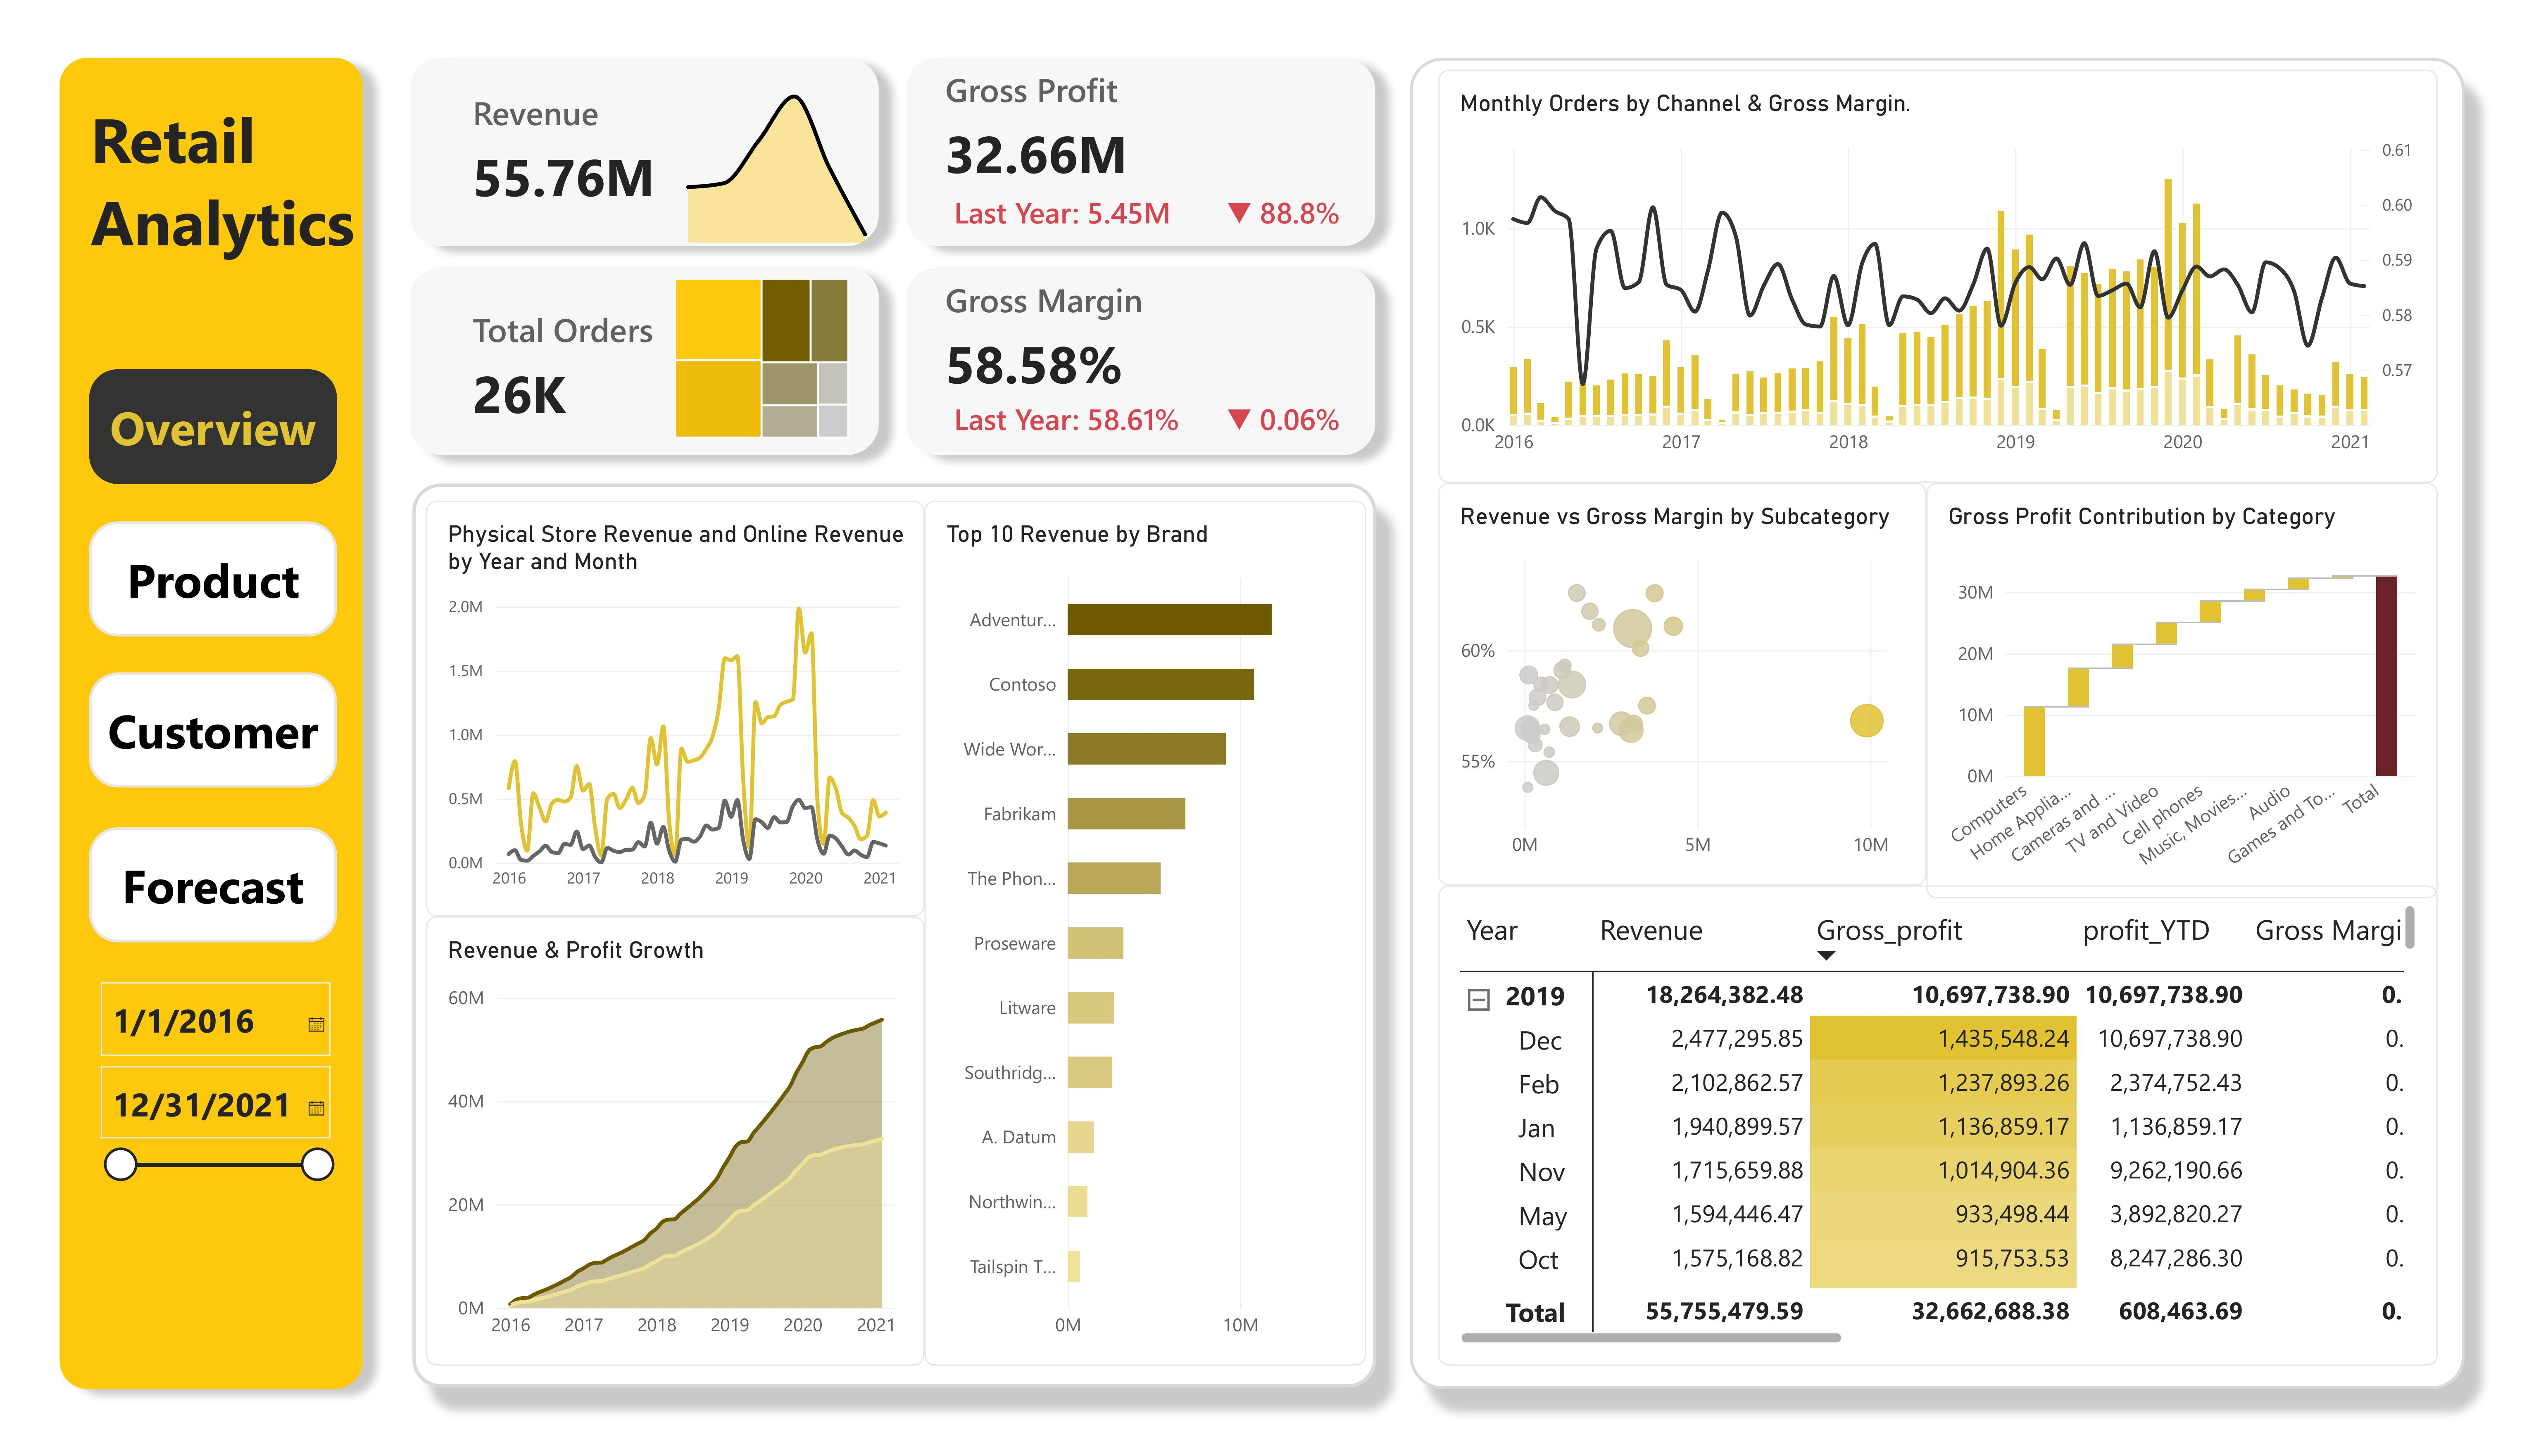

The page's visual inventory and layout, read from the dashboard file:
{"tool":"powerbi","page":{"name":"Business Overview","canvas":[1920,1080],"ordinal":0},"visuals":[{"type":"cardVisual","fields":{"Data":["_Measures.Revenue"]},"box":[326.2,50.6,183.1,83.7],"z":0},{"type":"cardVisual","fields":{"Data":["_Measures.Gross Profit"]},"box":[692.4,0,280.8,150],"z":1000},{"type":"cardVisual","fields":{"Data":["_Measures.Total Orders"]},"box":[326.2,200.6,280.8,120.3],"z":2000},{"type":"cardVisual","fields":{"Data":["_Measures.Gross Margin"]},"box":[692.4,177.9,280.8,120.3],"z":3000},{"type":"lineChart","title":"Revenue & Profit Growth","fields":{"Category":["DimDate.Date.Variation.Date Hierarchy.Year","DimDate.Date.Variation.Date Hierarchy.Month"],"Y":["_Measures.revenue_accumulating","_Measures.profit_accumulating"]},"box":[306,686,386,348],"z":4000},{"type":"waterfallChart","title":"Gross Profit Contribution by Category","fields":{"Category":["dim_product.category"],"Y":["_Measures.Gross Profit"]},"box":[1468,350,396,322],"z":5000},{"type":"clusteredBarChart","title":"Top 10 Revenue by Brand","fields":{"Category":["dim_product.brand"],"Y":["_Measures.Revenue"]},"box":[692,364,342,670],"z":6000},{"type":"lineChart","fields":{"Category":["DimDate.Date.Variation.Date Hierarchy.Year","DimDate.Date.Variation.Date Hierarchy.Month"],"Y":["_Measures.Physical Store Revenue","_Measures.Online Revenue"]},"box":[306,364,386,322],"z":7000},{"type":"lineStackedColumnComboChart","title":"Monthly Orders by Channel & Gross Margin.","fields":{"Category":["DimDate.MonthStart"],"Y":["_Measures.Total order_Online","_Measures.Total order_Physical channel"],"Y2":["_Measures.Gross Margin"]},"box":[1090,30,774,320],"z":8000},{"type":"scatterChart","title":"Revenue vs Gross Margin by Subcategory","fields":{"Category":["dim_product.subcategory"],"Size":["_Measures.Units Sold"],"X":["_Measures.Revenue"],"Y":["_Measures.Gross Margin"]},"box":[1090,350,378,312],"z":9000},{"type":"pivotTable","fields":{"Rows":["DimDate.Year","DimDate.MonthName"],"Values":["Sum(fact_sales.revenue)","Sum(fact_sales.gross_profit)","_Measures.profit_YTD","_Measures.Gross Margin","_Measures.revenue_accumulating","_Measures.profit_accumulating","_Measures.profit_lastmonth","_Measures.profit_MOM","_Measures.profit_total_year","_Measures.%profit_year"]},"box":[1090,662,774,372],"z":10000},{"type":"lineChart","fields":{"Category":["DimDate.Date.Variation.Date Hierarchy.Year","DimDate.Date.Variation.Date Hierarchy.Quarter","DimDate.Date.Variation.Date Hierarchy.Month","DimDate.Date.Variation.Date Hierarchy.Day"],"Y":["_Measures.Revenue"]},"box":[483.1,17.4,188.4,164],"z":11000},{"type":"treemap","fields":{"Group":["dim_product.category"],"Values":["CountNonNull(dim_product.category)"]},"box":[483.1,177.9,165.7,153.5],"z":12000},{"type":"shape","box":[45.3,497.1,191.9,89],"z":13000},{"type":"cardVisual","fields":{"Data":["_Measures.Gross Profit Arrow"]},"box":[910.5,115.1,172.7,48.8],"z":14000},{"type":"slicer","fields":{"Values":["DimDate.Date"]},"box":[46,732,192,170],"z":15000},{"type":"cardVisual","fields":{"Data":["_Measures.Gross Margin Arrow"]},"box":[910.5,268.6,172.7,62.8],"z":16000},{"type":"textbox","box":[46,50,214,150],"z":17000},{"type":"shape","title":"Product","box":[45.3,380.2,191.9,89],"z":18000},{"type":"shape","box":[45.3,261.6,191.9,89],"z":19000},{"type":"shape","box":[45.3,617.4,191.9,89],"z":20000},{"type":"cardVisual","fields":{"Data":["_Measures.KPI Year Label"]},"box":[699.4,101.2,211,76.7],"z":20001},{"type":"cardVisual","fields":{"Data":["_Measures.Gross Margin Previous Label"]},"box":[699.4,261.6,242.4,76.7],"z":20002}]}

Visuals, with their boxes on the page's 1920x1080 design canvas (x1, y1, x2, y2). These are canvas units, not pixel positions in the 2541x1456 screenshot, which may show the page scaled, cropped or inside an application window:
cardVisual - _Measures.Revenue: 326:51:509:134
cardVisual - _Measures.Gross Profit: 692:0:973:150
cardVisual - _Measures.Total Orders: 326:201:607:321
cardVisual - _Measures.Gross Margin: 692:178:973:298
"Revenue & Profit Growth" lineChart: 306:686:692:1034
"Gross Profit Contribution by Category" waterfallChart: 1468:350:1864:672
"Top 10 Revenue by Brand" clusteredBarChart: 692:364:1034:1034
lineChart - DimDate.Date.Variation.Date Hierarchy.Year x DimDate.Date.Variation.Date Hierarchy.Month: 306:364:692:686
"Monthly Orders by Channel & Gross Margin." lineStackedColumnComboChart: 1090:30:1864:350
"Revenue vs Gross Margin by Subcategory" scatterChart: 1090:350:1468:662
pivotTable - DimDate.Year x DimDate.MonthName: 1090:662:1864:1034
lineChart - DimDate.Date.Variation.Date Hierarchy.Year x DimDate.Date.Variation.Date Hierarchy.Quarter: 483:17:672:181
treemap - dim_product.category x CountNonNull(dim_product.category): 483:178:649:331
shape: 45:497:237:586
cardVisual - _Measures.Gross Profit Arrow: 910:115:1083:164
slicer - DimDate.Date: 46:732:238:902
cardVisual - _Measures.Gross Margin Arrow: 910:269:1083:331
textbox: 46:50:260:200
"Product" shape: 45:380:237:469
shape: 45:262:237:351
shape: 45:617:237:706
cardVisual - _Measures.KPI Year Label: 699:101:910:178
cardVisual - _Measures.Gross Margin Previous Label: 699:262:942:338
